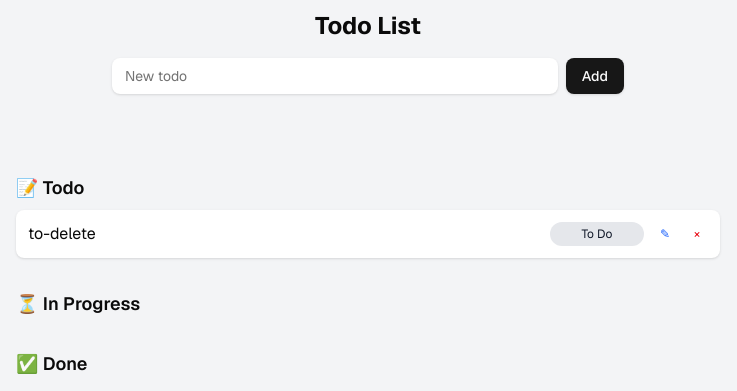
Home page data flow › todo disappears BEFORE deleteTodo resolves
Check: the text "to-delete" is shown, box [28, 222, 96, 246]
Click the button named "Delete todo" at (697, 234), box [686, 222, 708, 246]
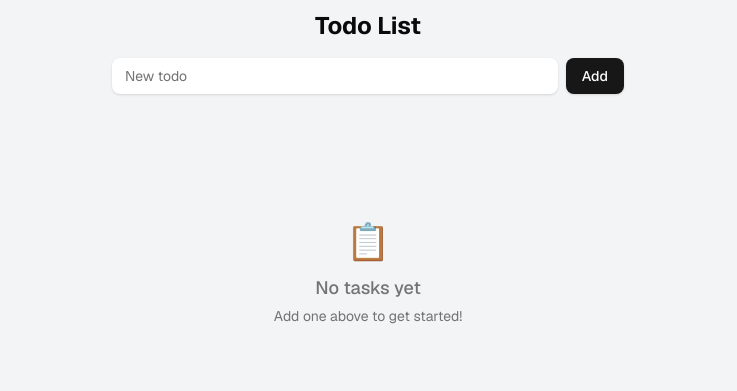
Check: the text "to-delete" is gone
